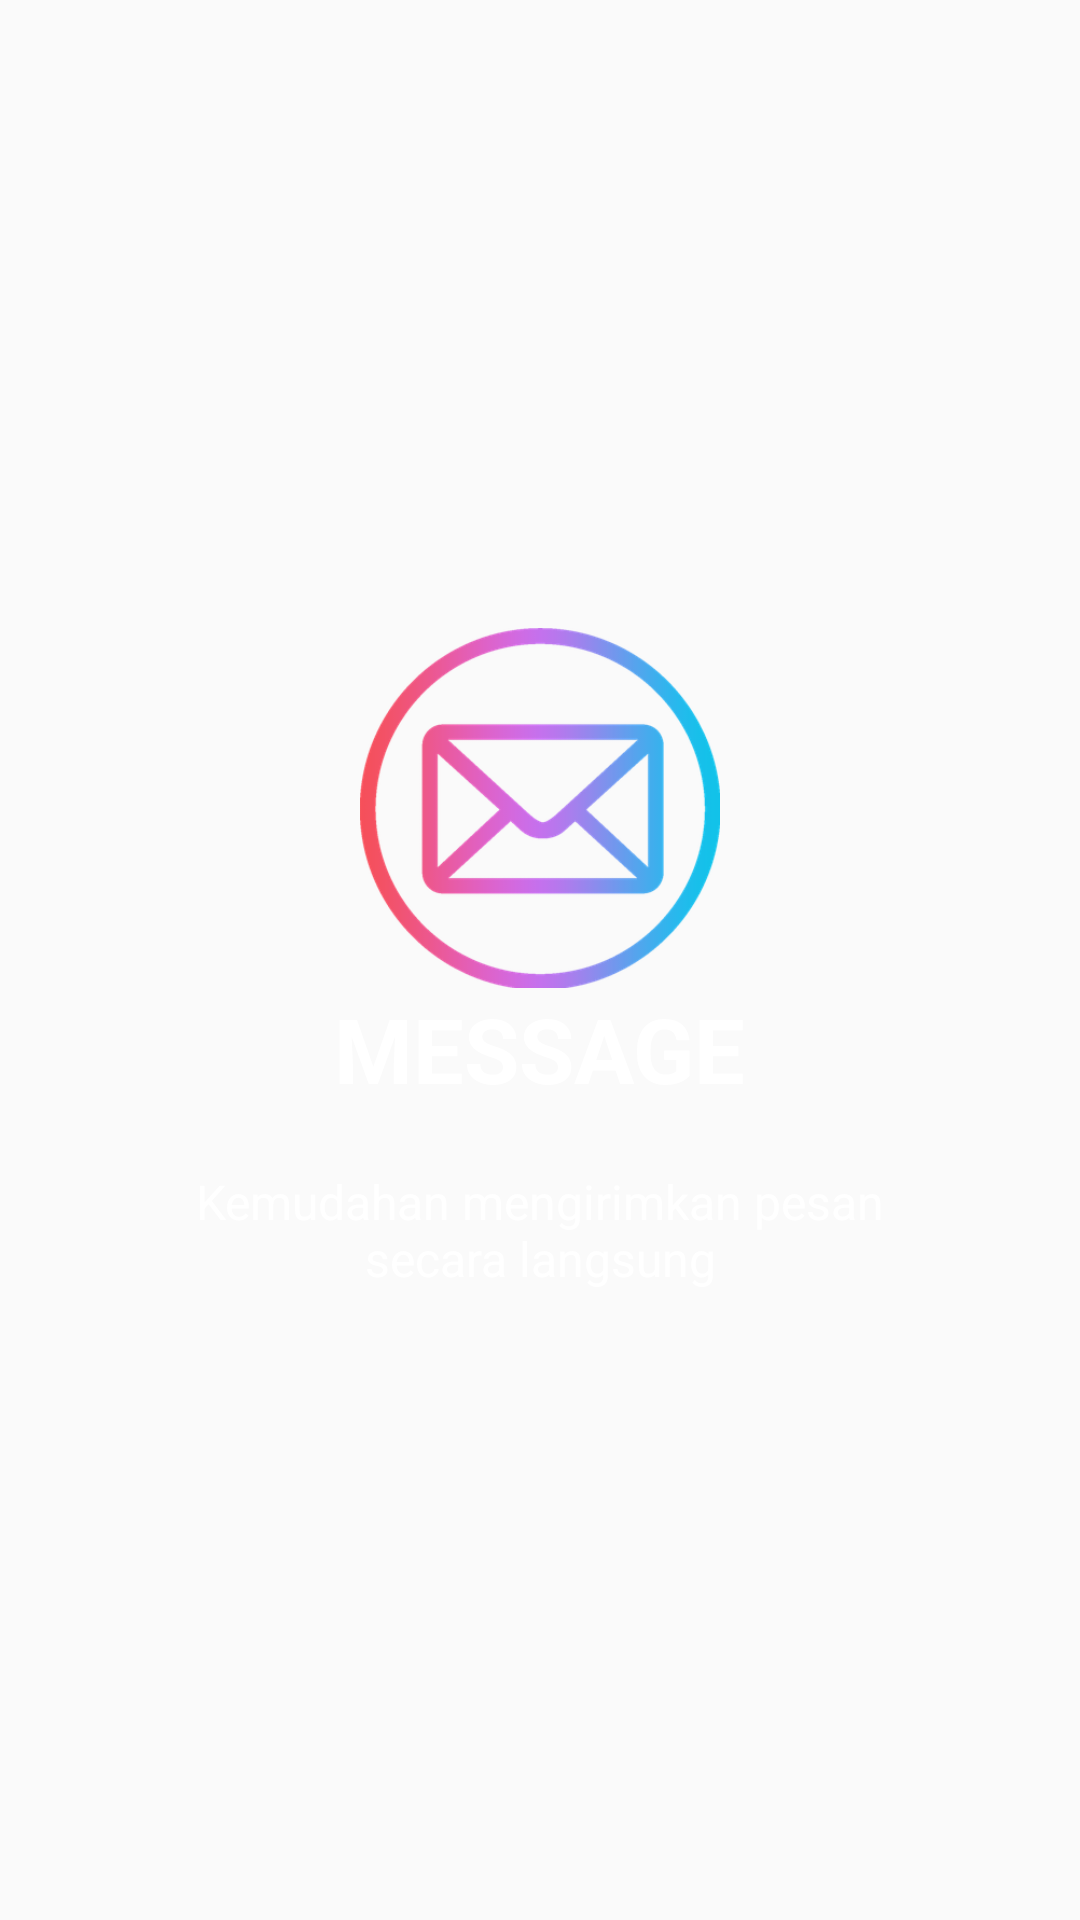

Where to tap for icons on this 1080w x 1920h app screen, as (x=x, y=y):
email: (x=540, y=808)
